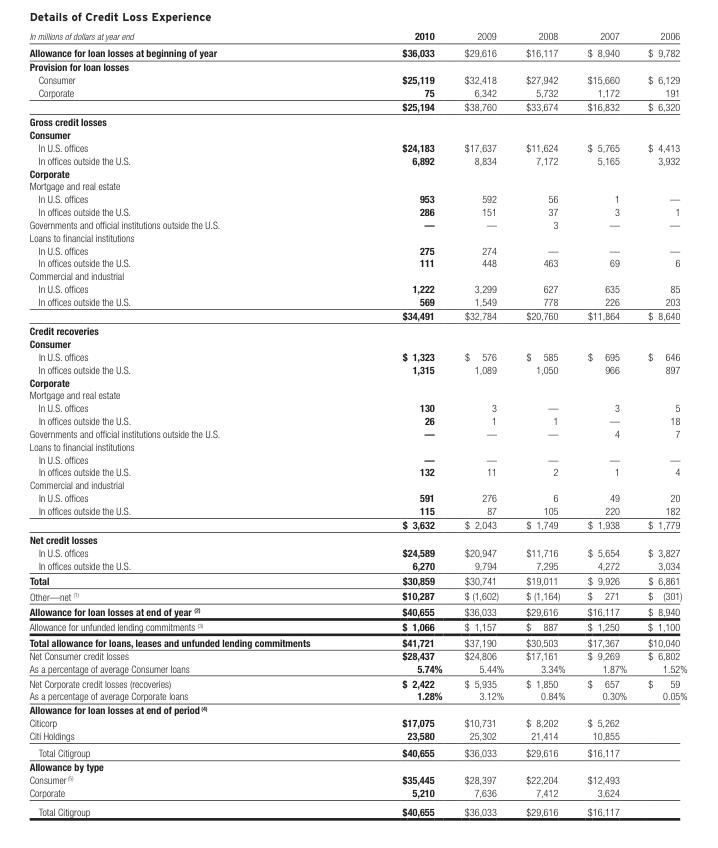table: (28, 29, 686, 817)
table column: (28, 29, 355, 817), (355, 29, 452, 817), (452, 29, 514, 817), (514, 29, 575, 817), (575, 29, 636, 817), (636, 29, 686, 817)
table column header: (28, 29, 686, 44)
table projected row header: (28, 59, 686, 73), (28, 113, 686, 127), (28, 322, 686, 336), (28, 531, 686, 545), (28, 702, 686, 716), (28, 127, 686, 140), (28, 166, 686, 179), (28, 179, 686, 192), (28, 230, 686, 243), (28, 336, 686, 349), (28, 375, 686, 388), (28, 439, 686, 452), (28, 759, 686, 772), (28, 269, 686, 281), (28, 388, 686, 400), (28, 478, 686, 490)
table row: (28, 572, 686, 588), (28, 618, 686, 634), (28, 743, 686, 759), (28, 785, 686, 801), (28, 801, 686, 817), (28, 29, 686, 44), (28, 44, 686, 59), (28, 588, 686, 603), (28, 603, 686, 618), (28, 728, 686, 743), (28, 59, 686, 73), (28, 85, 686, 99), (28, 99, 686, 113), (28, 113, 686, 127), (28, 294, 686, 308), (28, 308, 686, 322), (28, 322, 686, 336), (28, 503, 686, 517), (28, 517, 686, 531), (28, 531, 686, 545), (28, 558, 686, 572), (28, 634, 686, 648), (28, 648, 686, 662), (28, 675, 686, 689), (28, 702, 686, 716), (28, 127, 686, 140), (28, 140, 686, 153), (28, 153, 686, 166), (28, 166, 686, 179), (28, 179, 686, 192), (28, 204, 686, 217), (28, 217, 686, 230), (28, 230, 686, 243), (28, 243, 686, 256), (28, 256, 686, 269), (28, 281, 686, 294), (28, 336, 686, 349), (28, 349, 686, 362), (28, 362, 686, 375), (28, 375, 686, 388), (28, 400, 686, 413), (28, 413, 686, 426), (28, 426, 686, 439), (28, 439, 686, 452), (28, 452, 686, 465), (28, 465, 686, 478), (28, 490, 686, 503), (28, 545, 686, 558), (28, 662, 686, 675), (28, 689, 686, 702), (28, 759, 686, 772), (28, 772, 686, 785), (28, 73, 686, 85), (28, 192, 686, 204), (28, 269, 686, 281), (28, 388, 686, 400), (28, 478, 686, 490), (28, 716, 686, 728)
